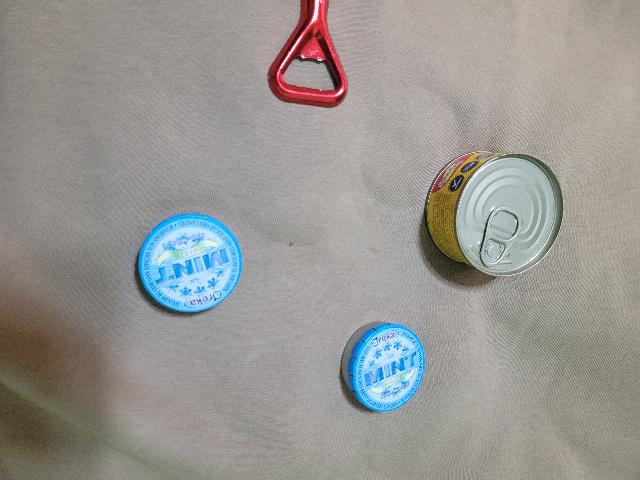Metal: (418, 144, 569, 282), (134, 211, 245, 316), (266, 0, 346, 109), (340, 317, 421, 411)
